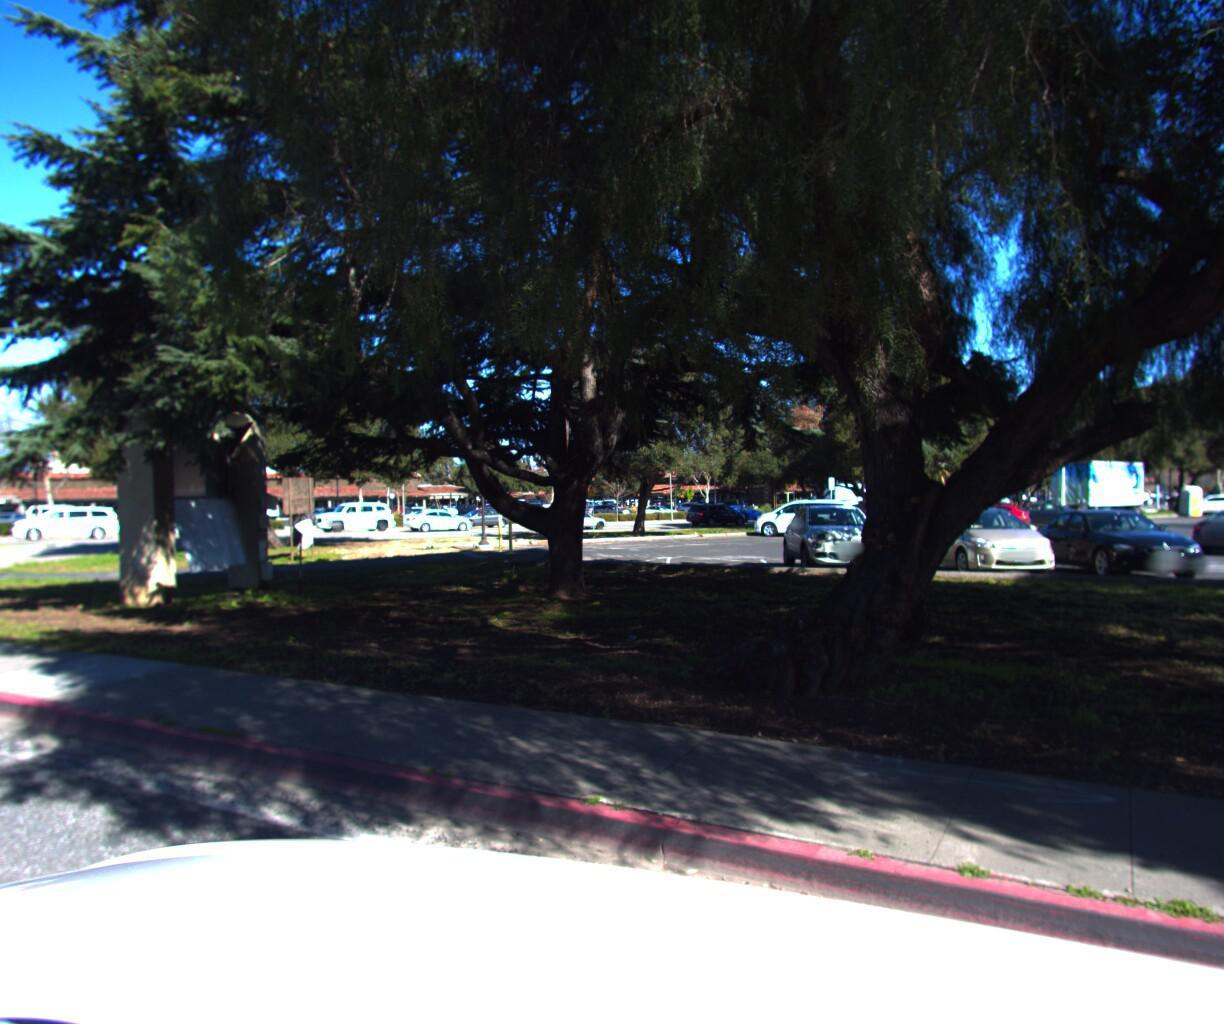car: (745, 498, 868, 536), (7, 506, 123, 543), (308, 494, 395, 533), (444, 504, 521, 532), (396, 505, 476, 531), (540, 507, 611, 530), (683, 505, 746, 527), (637, 500, 685, 516), (590, 501, 639, 516)
truck: (806, 476, 893, 520)
